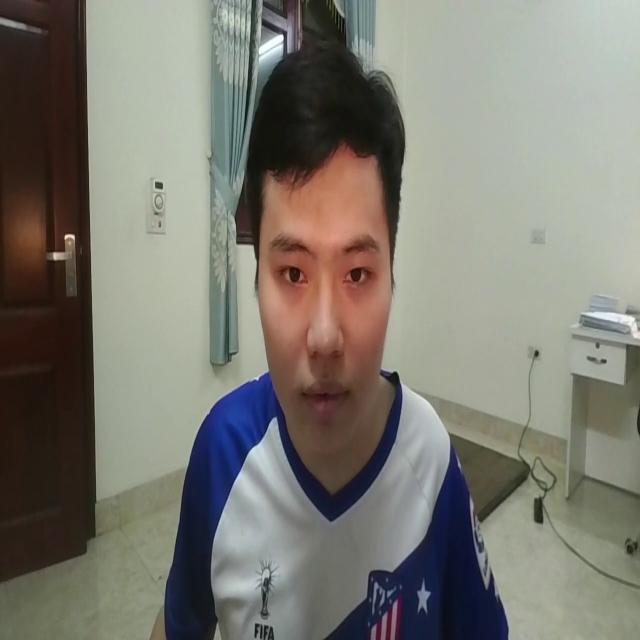student: (146, 39, 519, 640)
